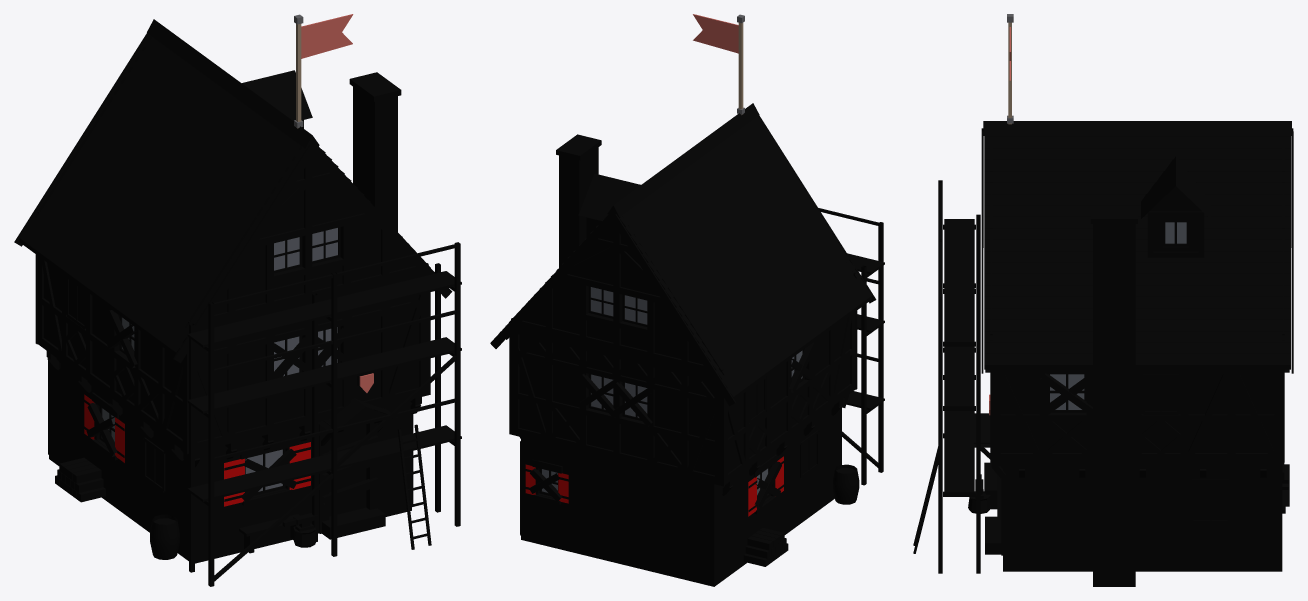
File: wohnhaus_zwerg_s2_g1.glb
The picture shows the model from 3 angles, left to right: view 1: azimuth 30°, elevation 25°; view 2: azimuth 150°, elevation 25°; view 3: azimuth 270°, elevation 25°; orthographic projection. The views are drawn at different scales.
Visible parts, largest first — view 1: Haus, Dach, Geruest, Leerstand, Scheiben, Fahne; view 2: Haus, Dach, Geruest, Leerstand, Scheiben, Fahne; view 3: Dach, Haus, Geruest, Leerstand, Scheiben, Fahne.
Part boxes in pixels (left/top/right/bottom): Haus: left=35, top=37, right=430, bottom=563; Dach: left=14, top=19, right=452, bottom=362; Geruest: left=187, top=242, right=461, bottom=586; Leerstand: left=86, top=310, right=378, bottom=504; Scheiben: left=102, top=228, right=337, bottom=491; Fahne: left=294, top=14, right=353, bottom=128; Haus: left=509, top=118, right=859, bottom=586; Dach: left=490, top=103, right=876, bottom=406; Geruest: left=818, top=208, right=884, bottom=485; Leerstand: left=529, top=342, right=816, bottom=508; Scheiben: left=542, top=287, right=802, bottom=495; Fahne: left=693, top=14, right=744, bottom=114; Dach: left=981, top=121, right=1293, bottom=373; Haus: left=968, top=137, right=1285, bottom=586; Geruest: left=913, top=180, right=980, bottom=573; Leerstand: left=985, top=369, right=1289, bottom=519; Scheiben: left=1050, top=222, right=1186, bottom=409; Fahne: left=1007, top=14, right=1013, bottom=124.
Bounding box in the file's own units: 6.73 × 11.75 × 8.03.
